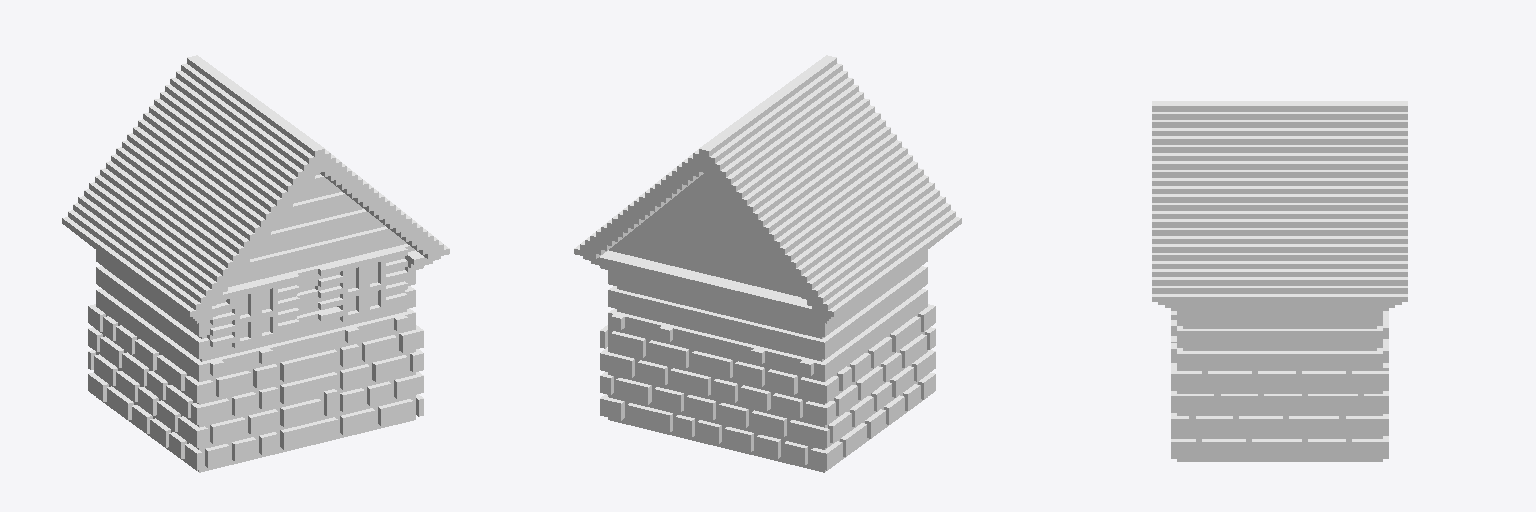
The model's file is Chalet.obj.
3 renders of one model, left to right at view 1: azimuth 30°, elevation 25°; view 2: azimuth 150°, elevation 25°; view 3: azimuth 270°, elevation 25°, orthographic.
Size of the model in its own units: 48 by 54 by 41.